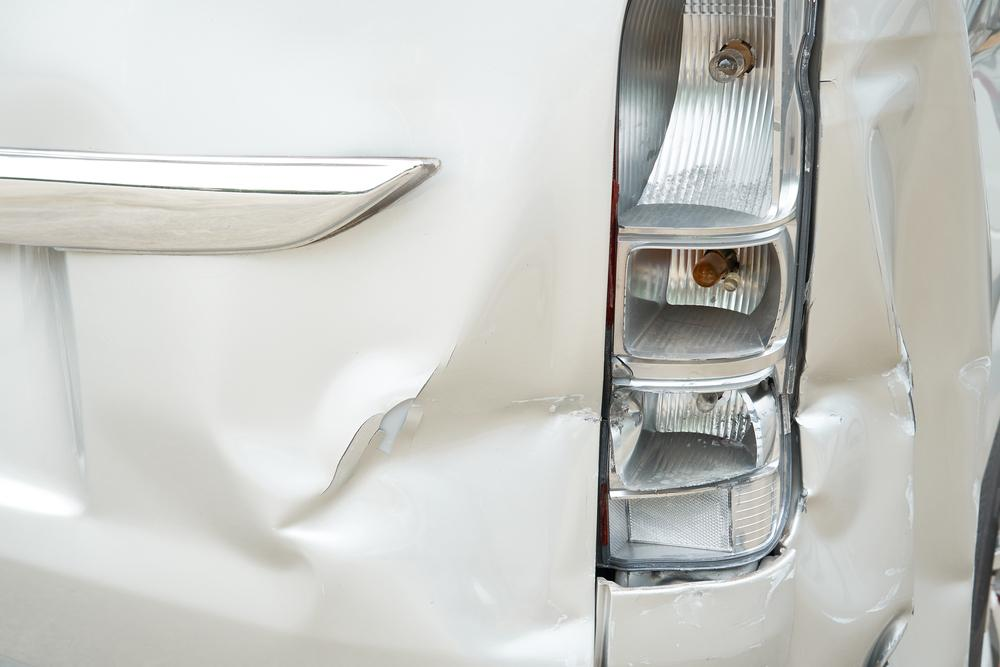dent: (88, 201, 607, 659), (791, 30, 986, 667)
lamp broken: (604, 0, 818, 580)
